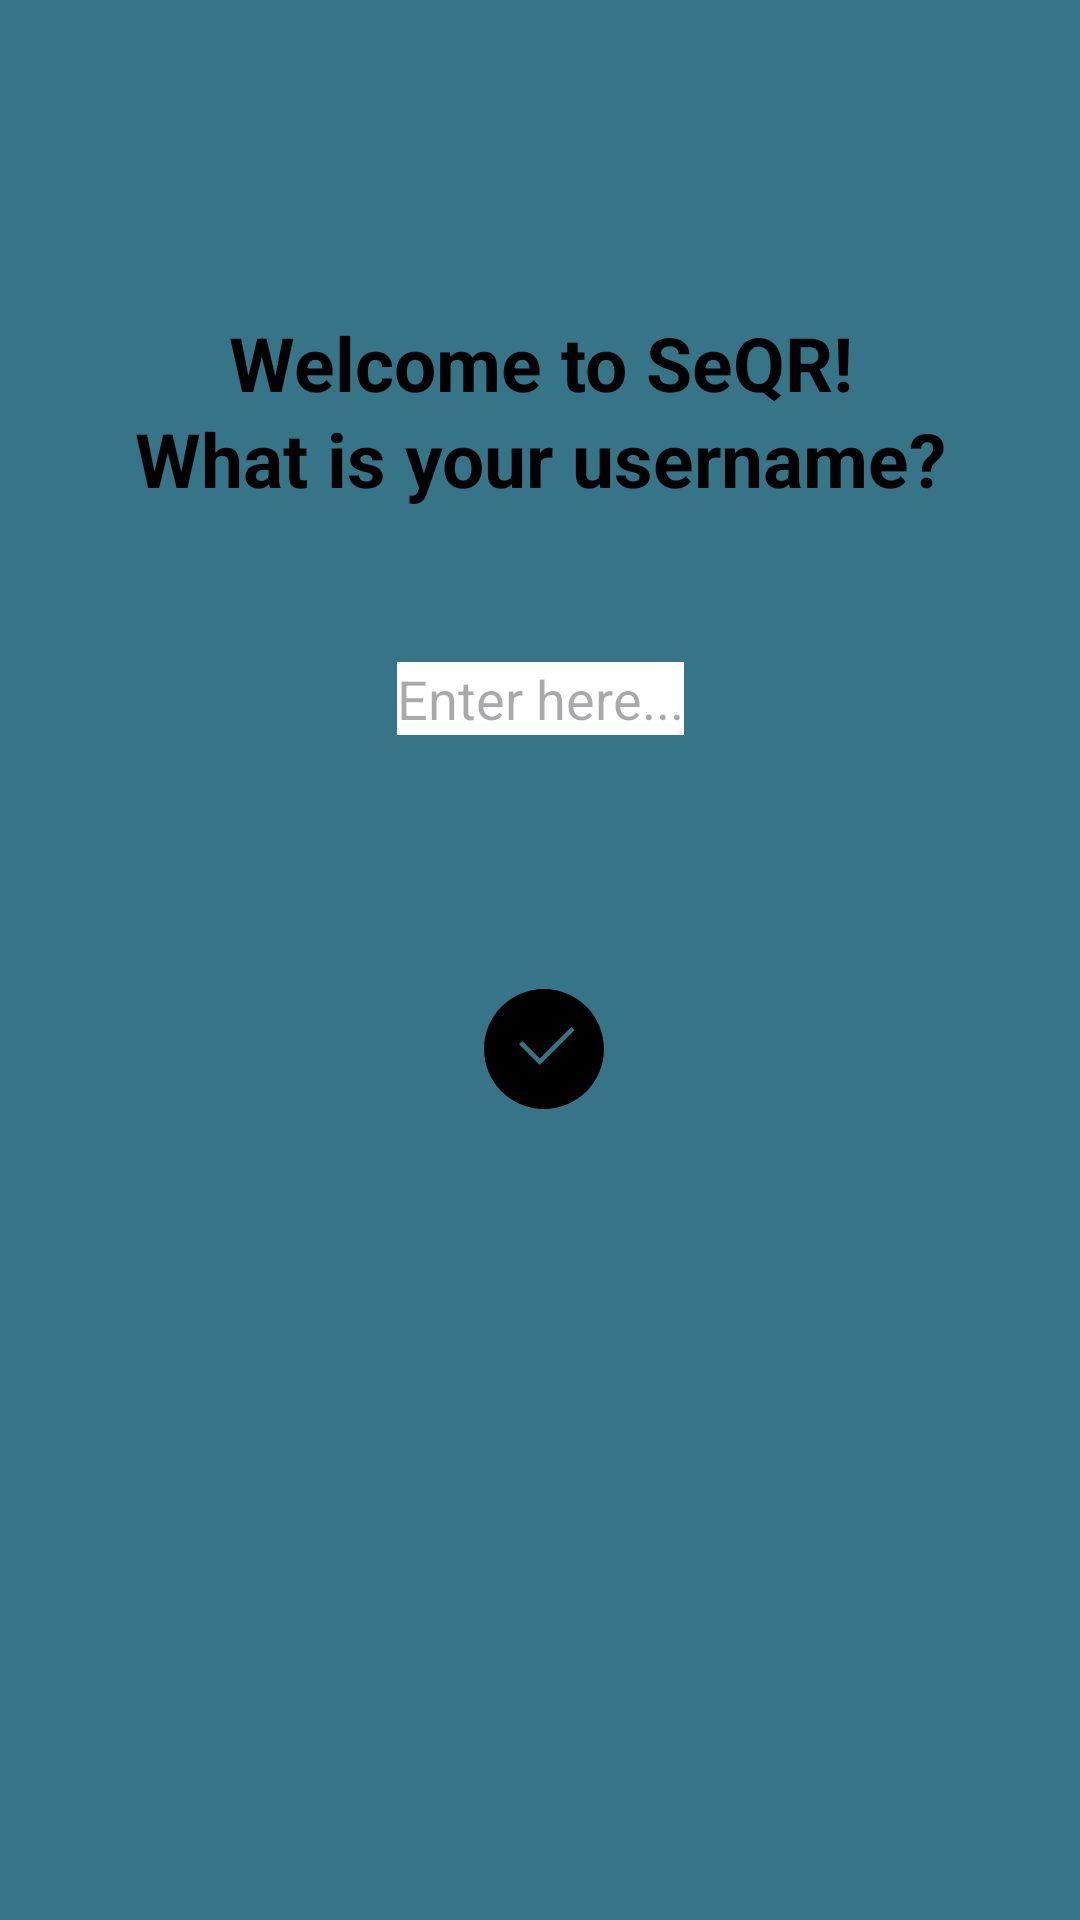

Icon click points for this 1080px×1920px phone screenshot, format point (x, y):
checkmark: point (544, 1049)
